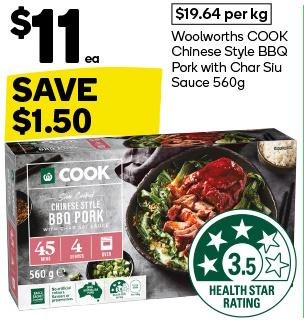description_block: (169, 27, 291, 96)
price_main: (4, 2, 111, 68)
product_image_block: (2, 128, 297, 320)
promo_text_block: (6, 68, 164, 138)
unit_price_block: (171, 2, 272, 24)
